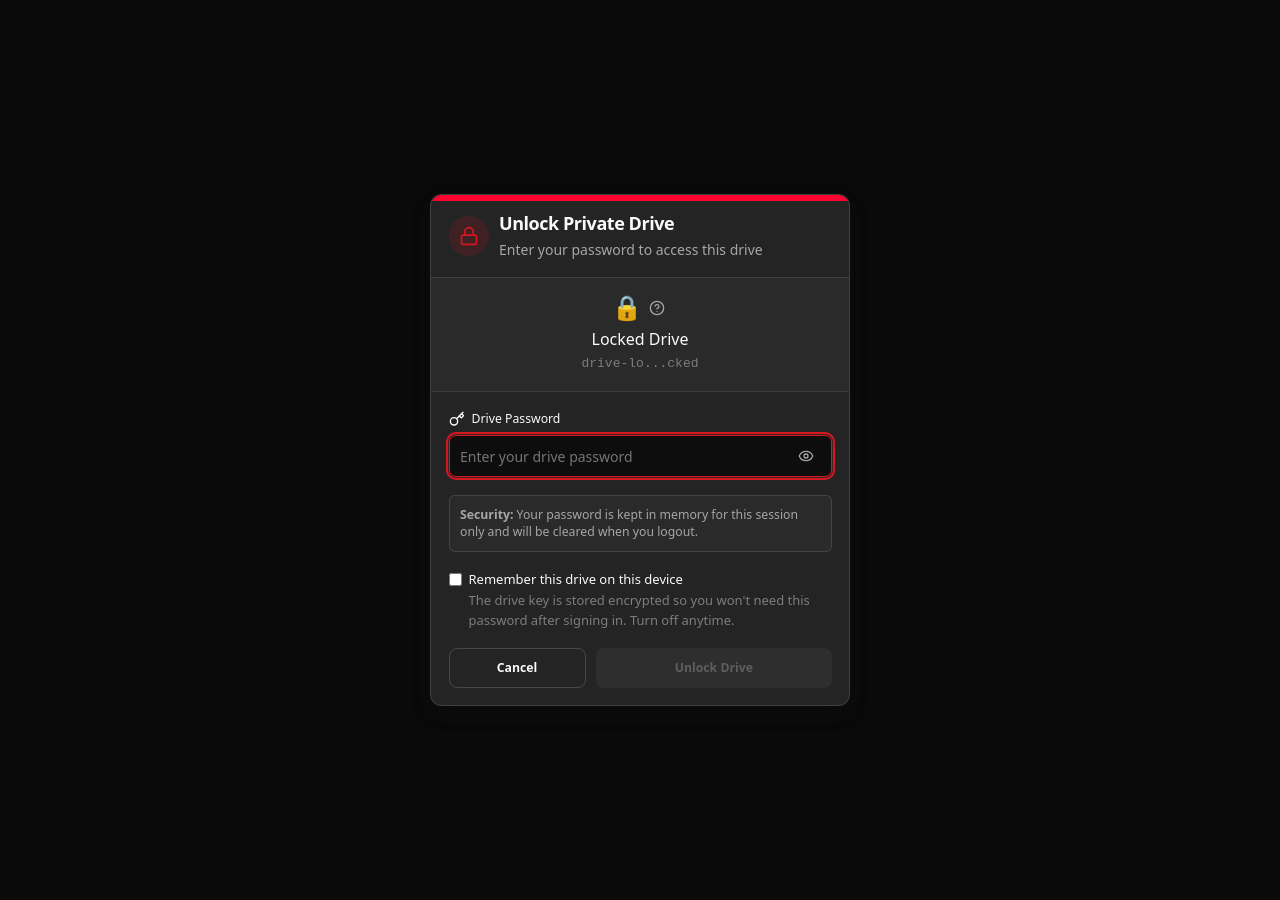
Scenario: PrivateDriveUnlockModal error display (UX-3) › surfaces a wrong-password failure verbatim from the unlock envelope
This screenshot has width=1280, height=900.
Step 1. Type "typed-password" into the password field with placeholder "Enter your drive password" → [640, 456], box [448,435,832,477]
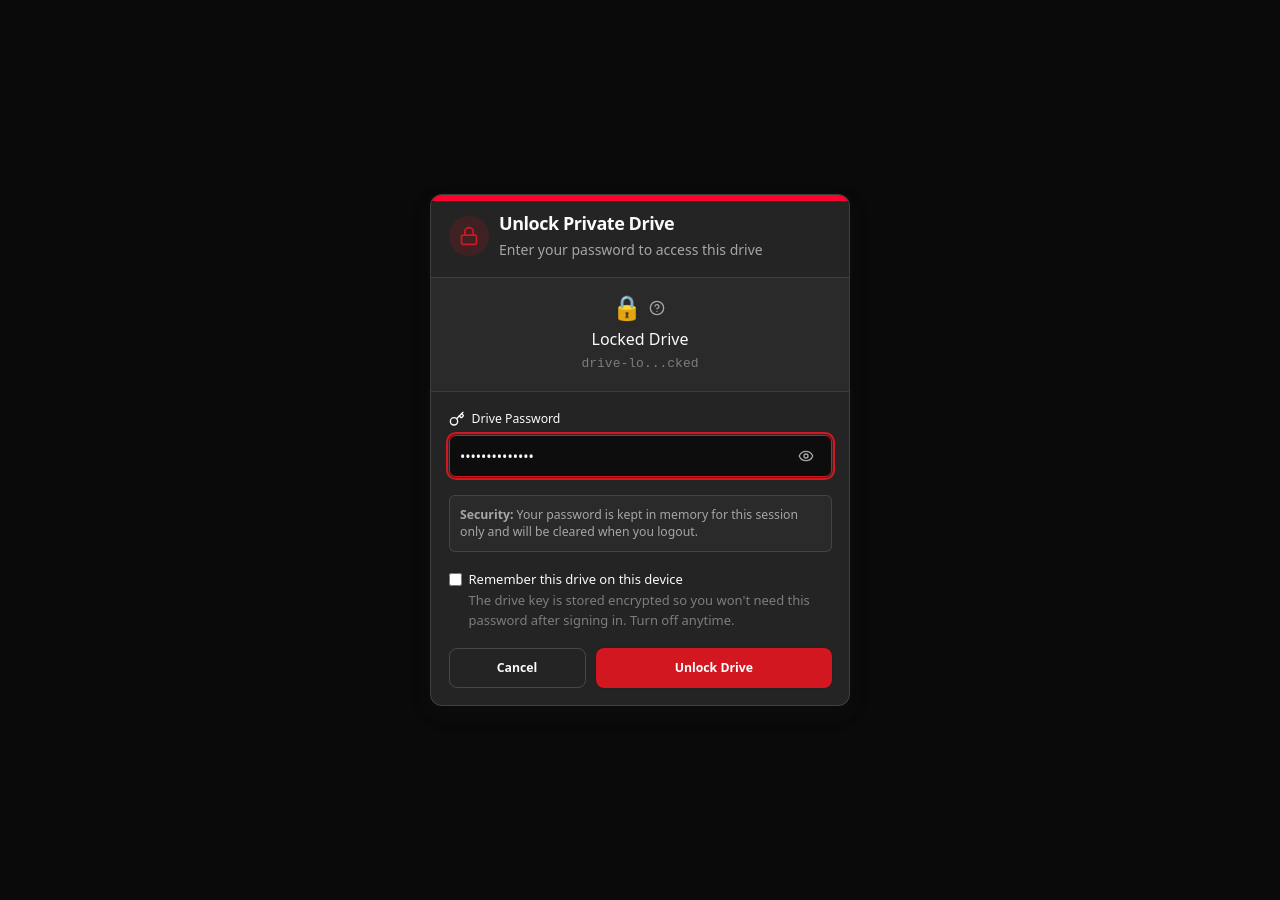
Step 2. Click the button "Unlock Drive" → [714, 668], box [596,648,832,688]
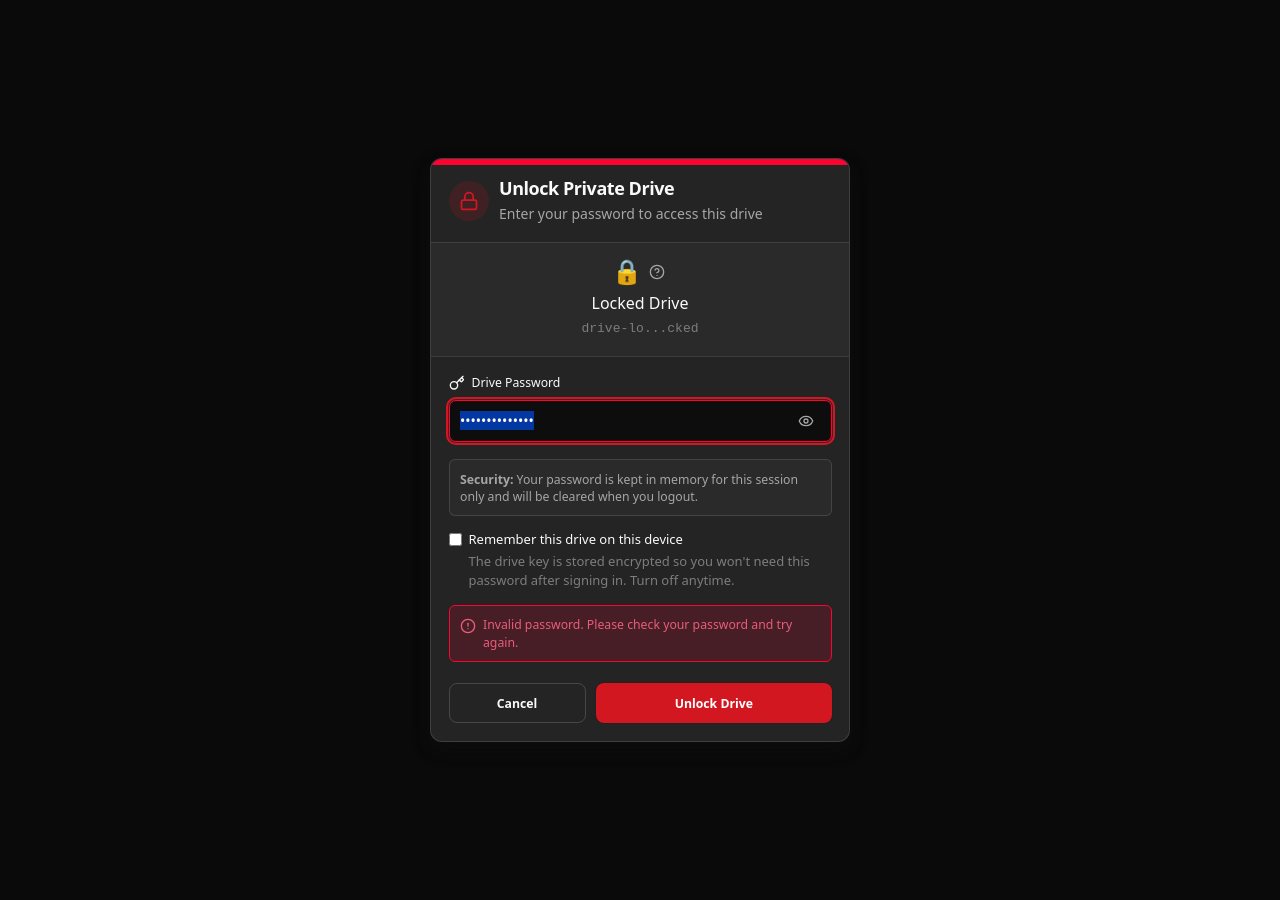
Now the text "Invalid password. Please check your password and try again." is shown, box [448,605,832,662]
